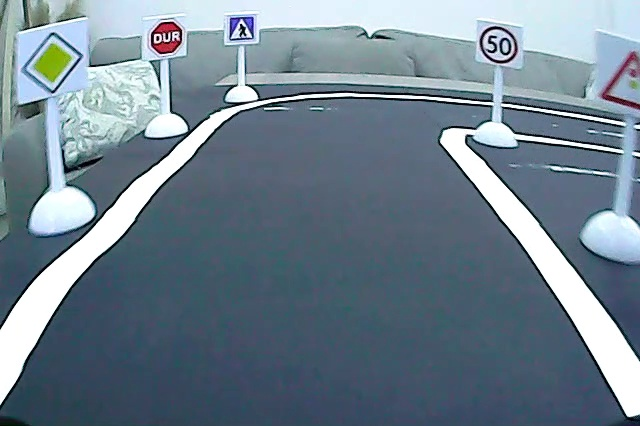pedestrian crossing: (226, 15, 257, 43)
red light: (599, 46, 640, 112)
speed limit 50: (477, 23, 522, 65)
stop sign: (146, 18, 187, 58)
